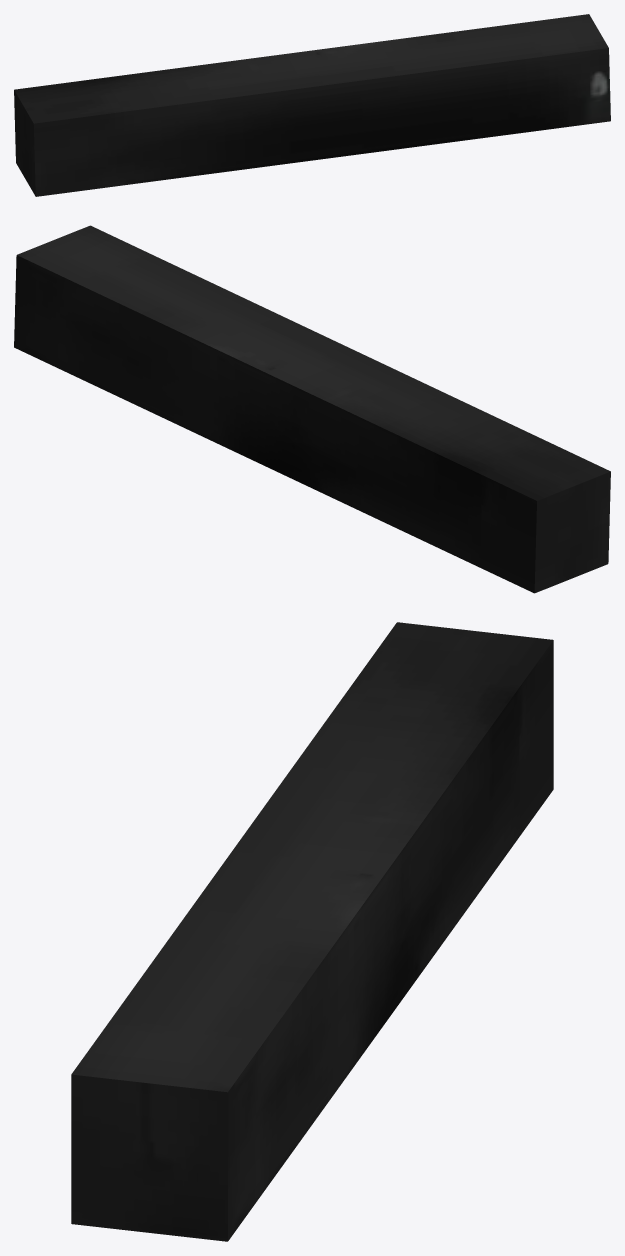
Rendered from frame__rear_brace_1.glb.
The picture shows the model from 3 angles, top to bottom: view 1: azimuth 30°, elevation 25°; view 2: azimuth 150°, elevation 25°; view 3: azimuth 270°, elevation 25°; orthographic projection. The views are drawn at different scales.
Visible parts, largest first — view 1: world; view 2: world; view 3: world.
Part boxes in pixels (bbox=[...]): world: bbox=[14, 14, 610, 196]; world: bbox=[14, 225, 610, 593]; world: bbox=[71, 622, 553, 1241].
Size of the model in its own units: 0.3652 by 0.0604 by 0.1481.
Materials: 1 (1 with a texture image).
